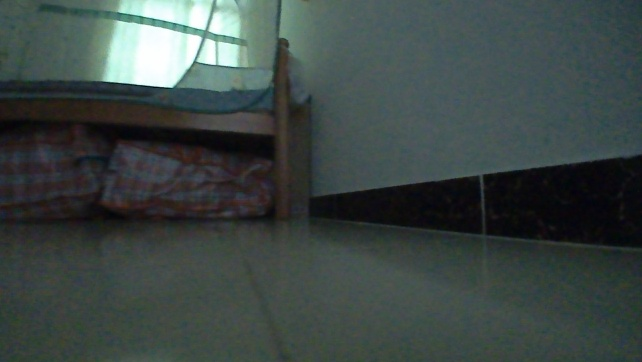bed1: (0, 33, 298, 221)
